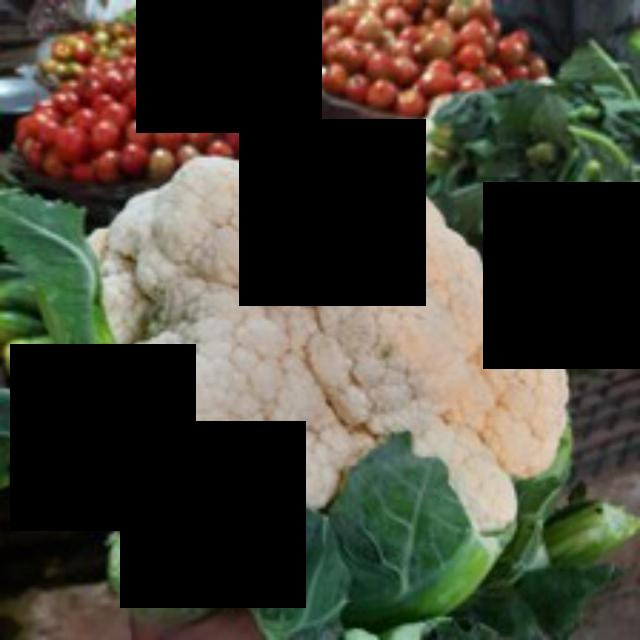cauliflower: (68, 138, 615, 544)
